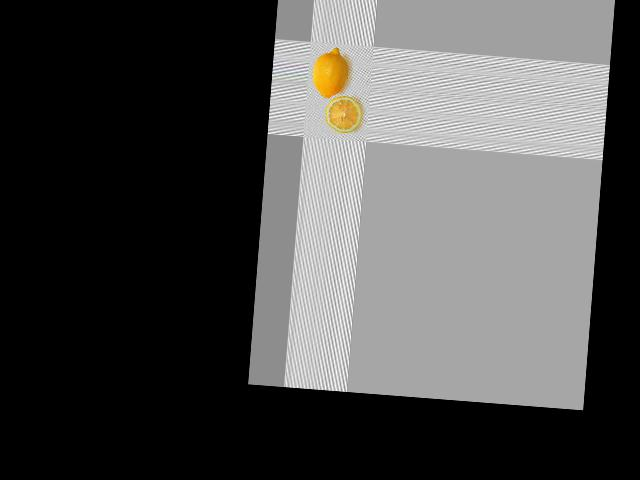lemon: (307, 46, 348, 104)
